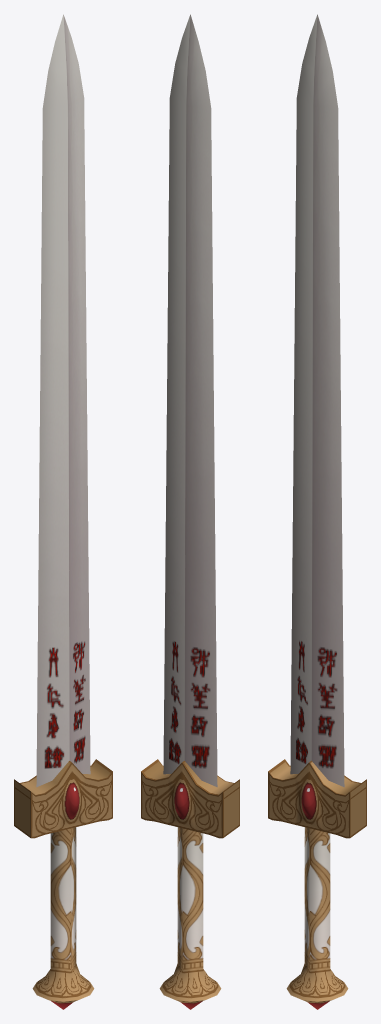
The model's file is Byakuren_weapon_B.FBX.
The picture shows the model from 3 angles, left to right: view 1: azimuth 30°, elevation 25°; view 2: azimuth 150°, elevation 25°; view 3: azimuth 330°, elevation 25°; orthographic projection.
Visible parts, largest first — view 1: weapon; view 2: weapon; view 3: weapon.
Part boxes in pixels (x1,y1,x2,y2): weapon: [14, 14, 112, 1009]; weapon: [141, 14, 239, 1009]; weapon: [268, 14, 366, 1009].
Bounding box in the file's own units: 6.24 × 72.36 × 4.07.
